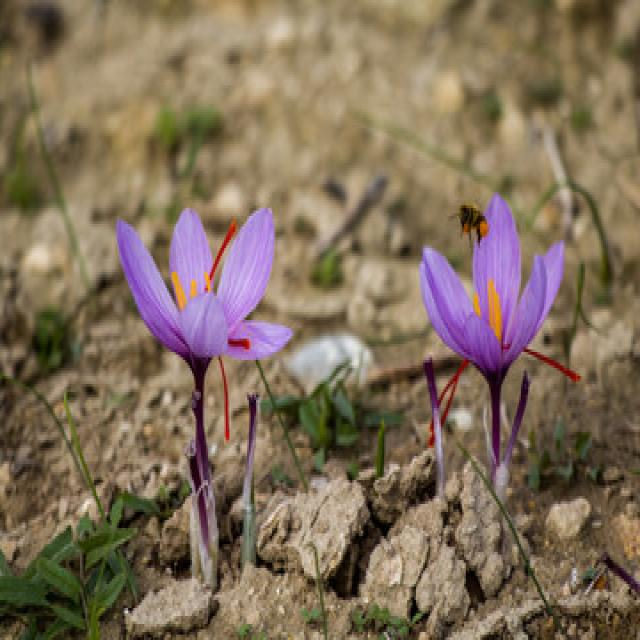saffron open: (118, 208, 291, 583), (420, 195, 564, 476)
